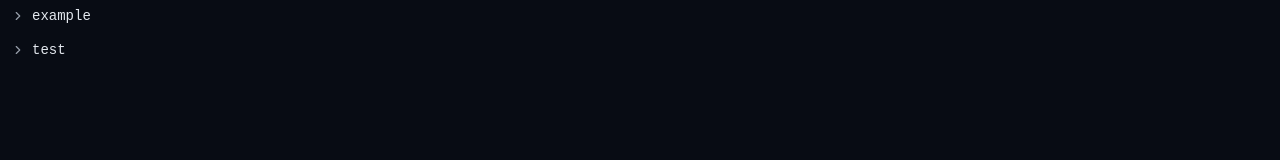
Test: DomainTree — lazy expansion › fetches and mounts the nested level on expand, then unmounts on collapse
Expected: the button "example" is shown, [32,6,1272,26]
Click the 1st button named "展开子域". click: (18, 16)
box: [8,6,28,26]
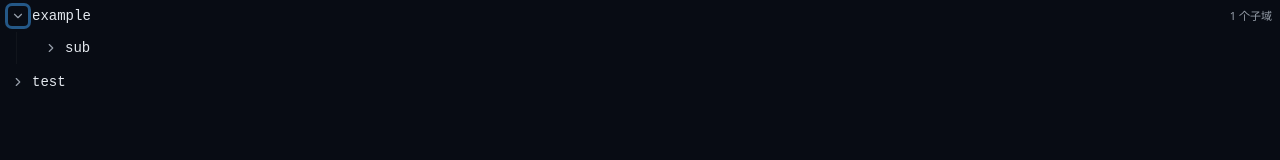
Expected: the button "sub" is shown, [65,38,1272,58]
Expected: the button named "全部收起" is expanded
Click the button named "全部收起". click: (18, 16)
box: [8,6,28,26]
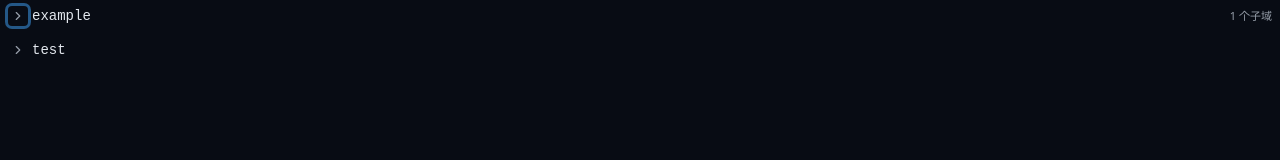
Expected: the button "sub" is gone
